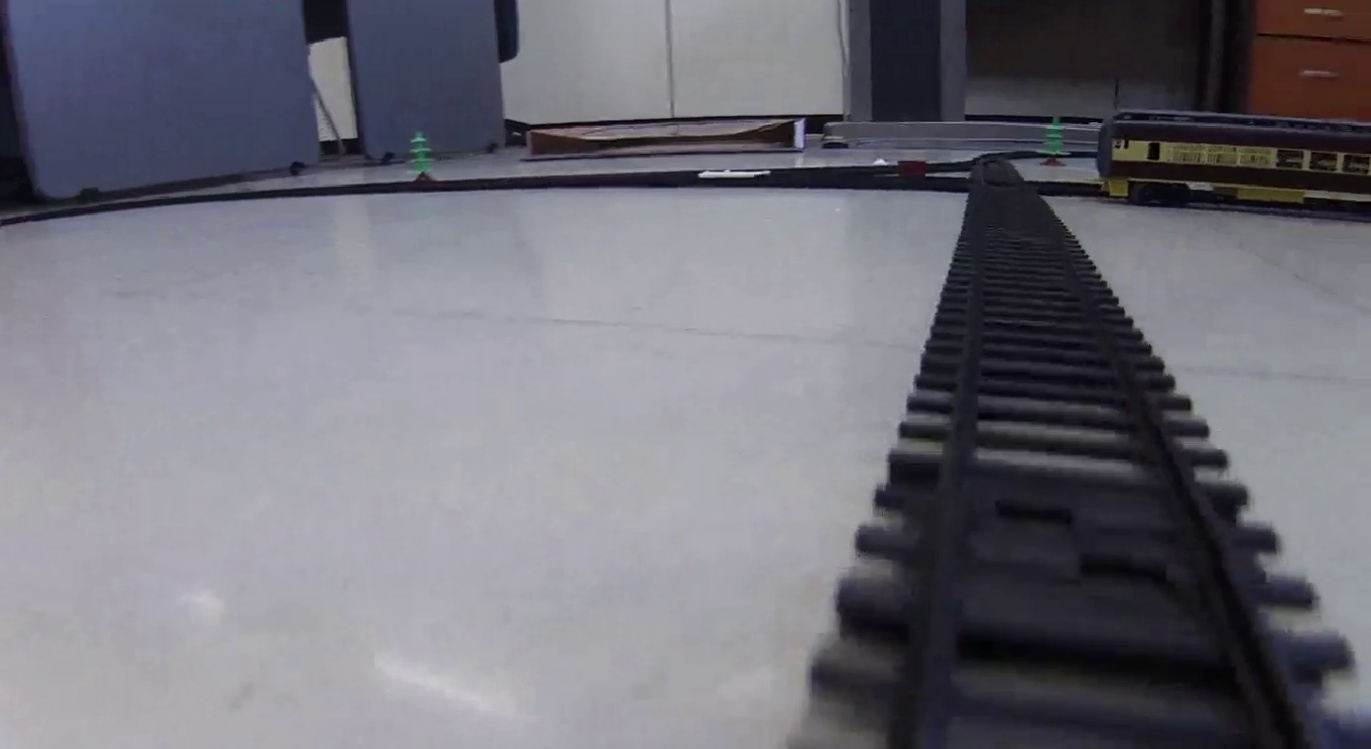tree: (402, 133, 436, 182)
